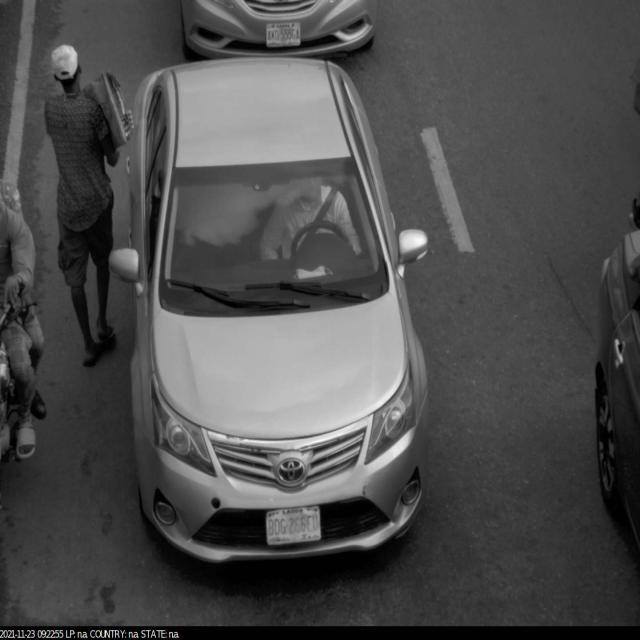windshield: (151, 150, 397, 330)
